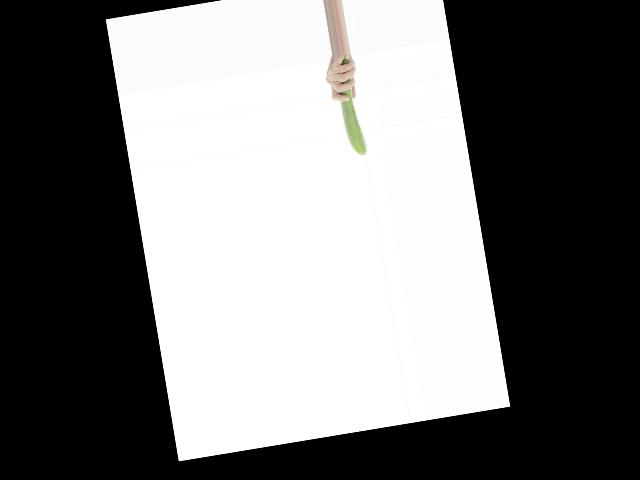cucumber: (333, 54, 368, 158)
